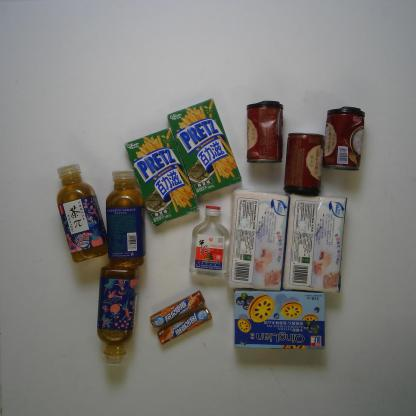Alcohol: (187, 204, 233, 281)
Candy: (148, 287, 206, 331), (156, 304, 214, 347)
Canned Food: (321, 104, 367, 172), (282, 130, 327, 197), (245, 98, 285, 166)
Dessert: (165, 95, 244, 199), (123, 126, 201, 228), (231, 288, 328, 352)
Drink: (55, 160, 110, 264), (96, 264, 141, 368), (104, 168, 147, 270)
Tissue: (281, 192, 350, 296), (226, 186, 290, 293)
